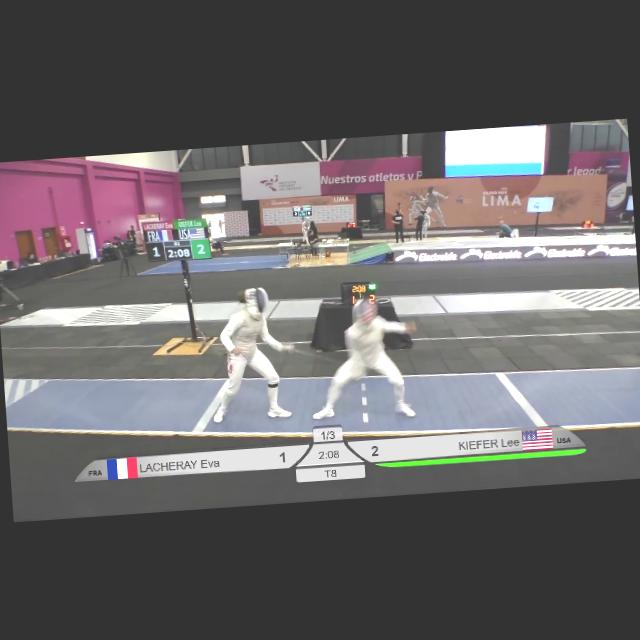blade: (288, 337, 348, 376)
